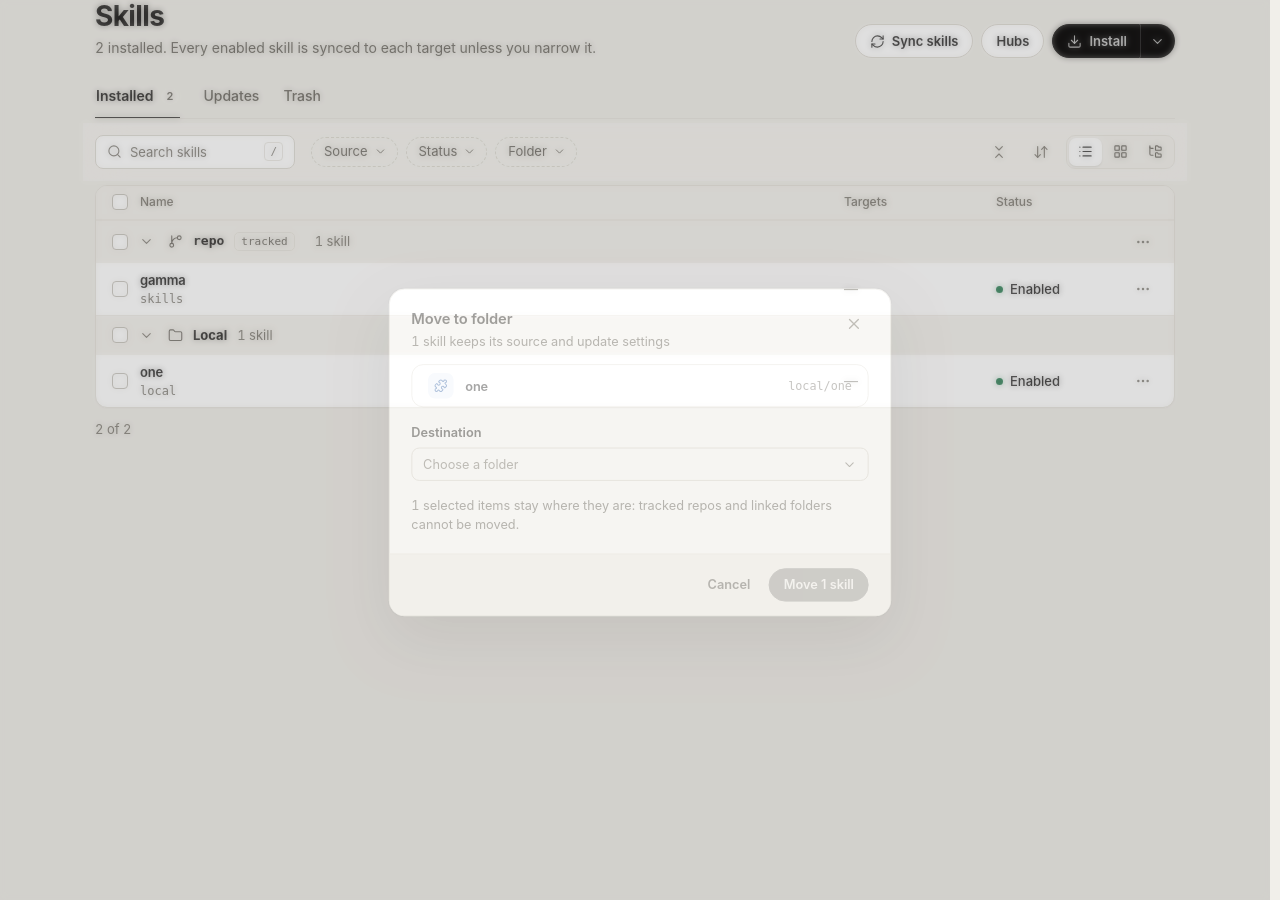
Test: Move to folder › stays disabled while only a tracked-repo skill is selected
Click the checkbox named "gamma" at {"x": 120, "y": 289}, box [112, 281, 128, 297]
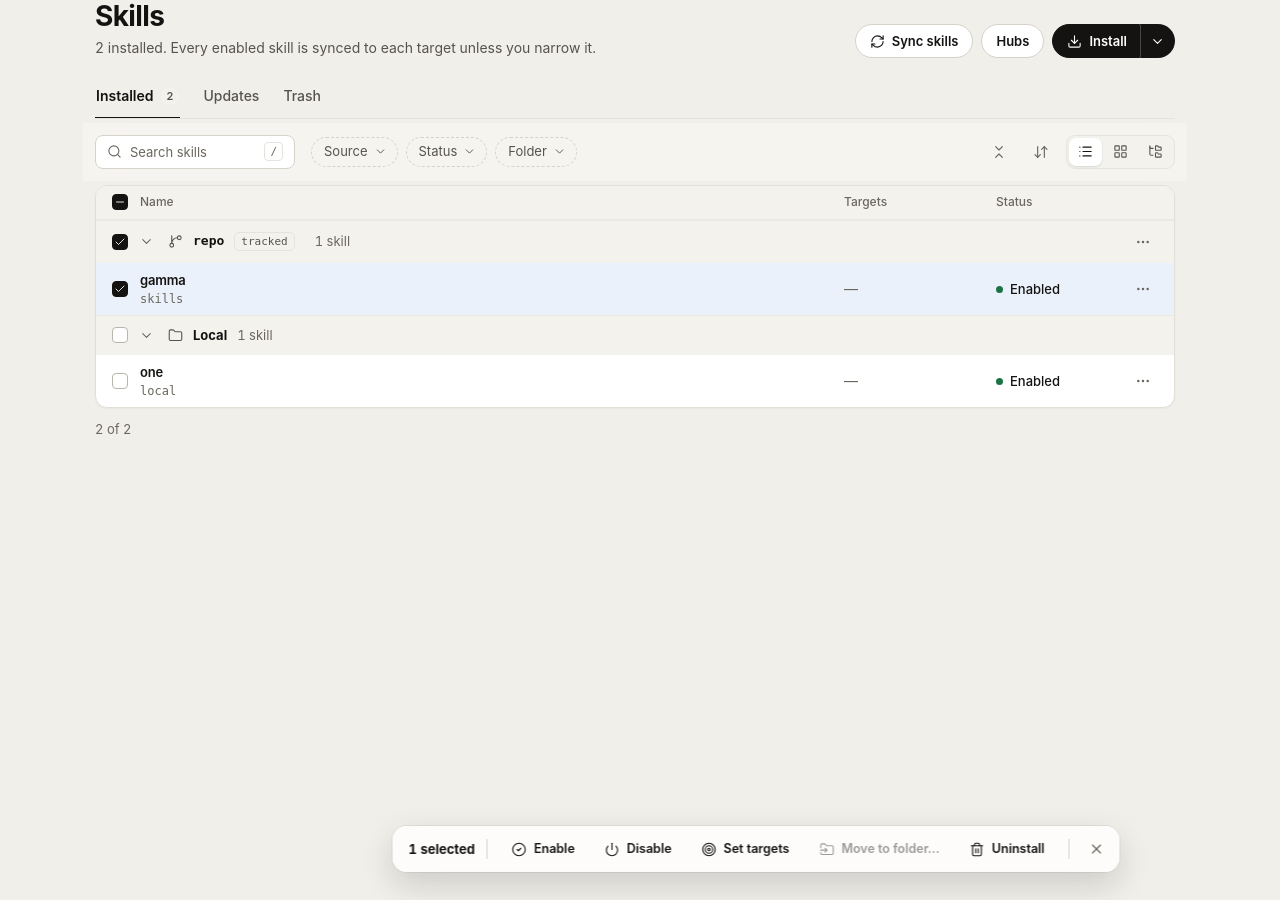
Now the button "Move to folder…" is disabled, box [807, 835, 952, 863]
